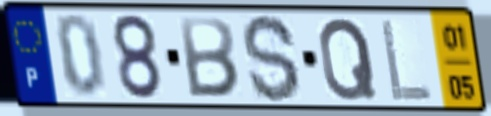0: (54, 12, 106, 101)
8: (109, 12, 164, 102)
B: (177, 14, 242, 101)
L: (377, 15, 435, 104)
Q: (317, 15, 381, 104)
S: (240, 11, 304, 105)
